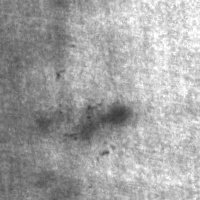patches: (66, 100, 136, 142)
